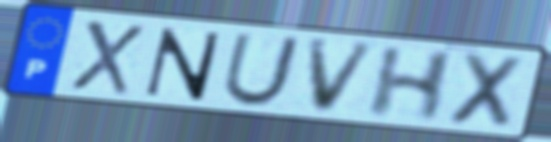H: (363, 45, 460, 123)
N: (140, 26, 226, 103)
U: (218, 31, 304, 109)
V: (304, 38, 382, 116)
X: (442, 49, 530, 133), (66, 17, 147, 98)
